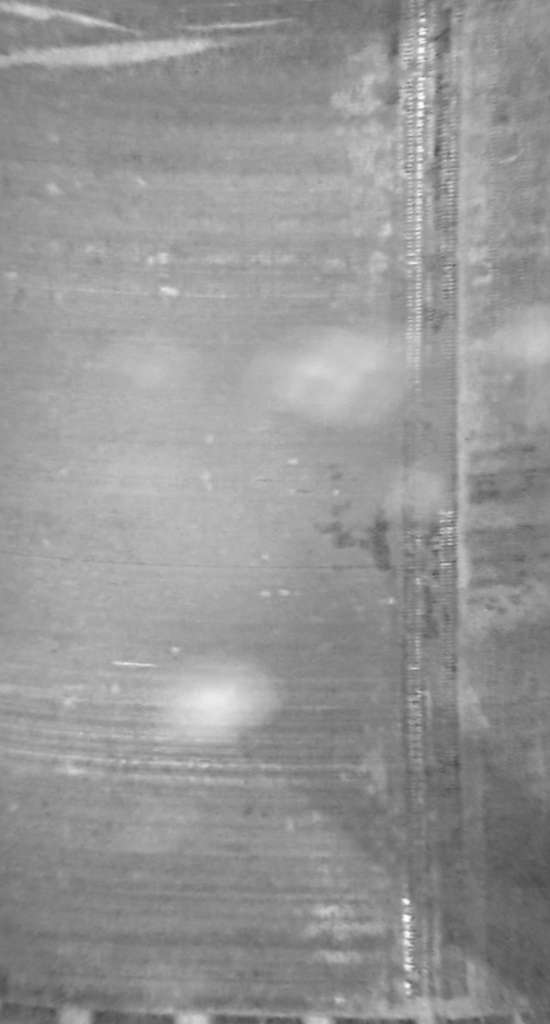splice: (392, 1, 472, 1024)
